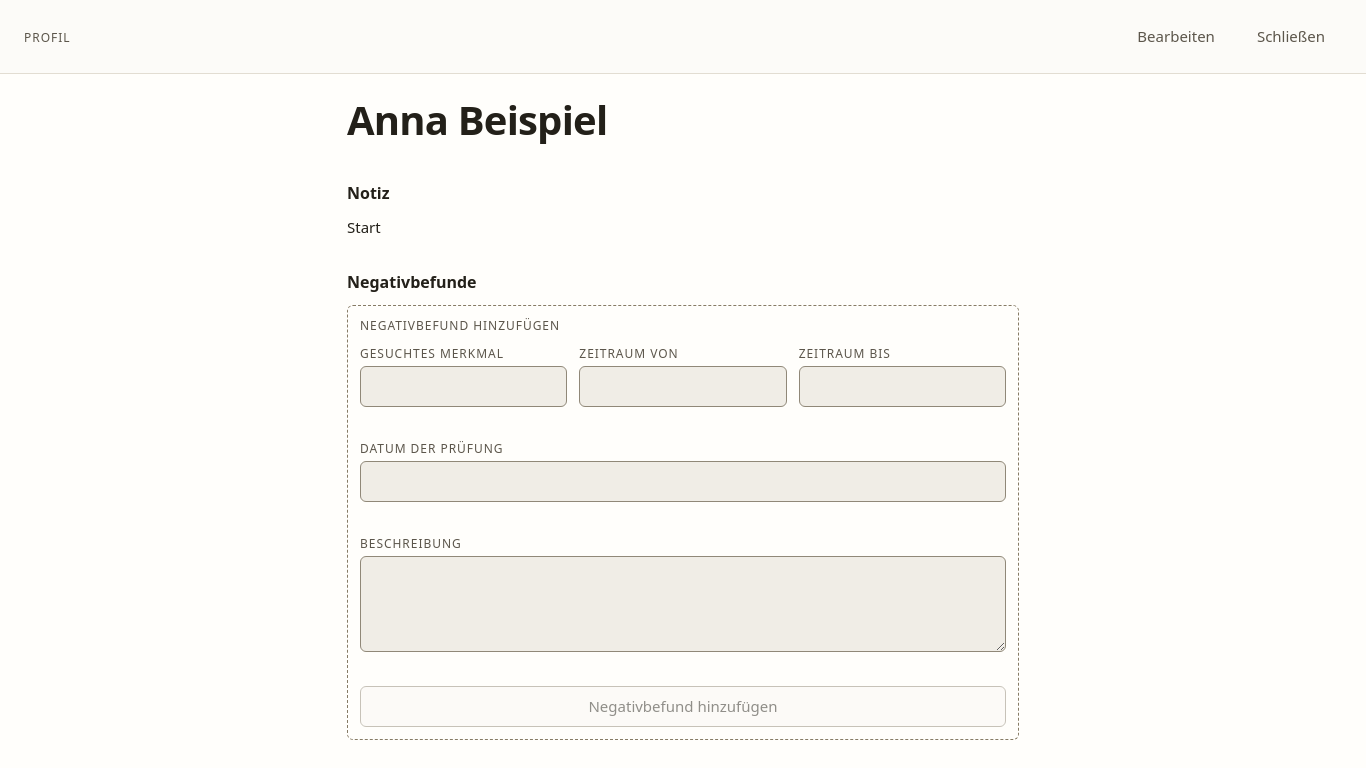
Scenario: PersonBearbeitenAnsicht — eigene Ansicht mit acht Reitern (AP-1.30 PR 7b) › Kopf: Anzeigename als Überschrift und Kennung „P-0142"
Click the button "Bearbeiten".
click(1176, 36)  # box top-left (1120, 16), bottom-right (1232, 57)
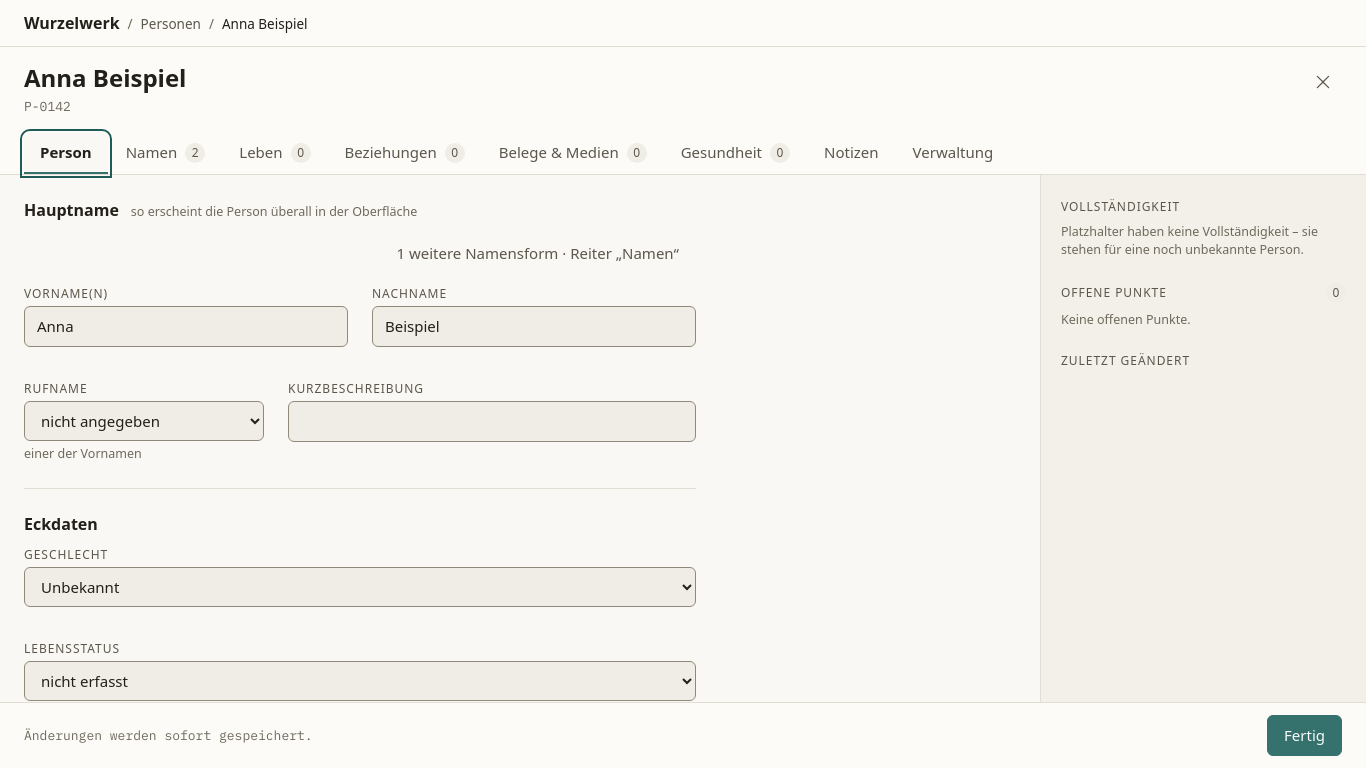
Expected: the heading "Anna Beispiel" is shown, top-left (24, 61), bottom-right (186, 94)
Result: the text "P-0142" is shown at top-left (24, 98), bottom-right (71, 115)
